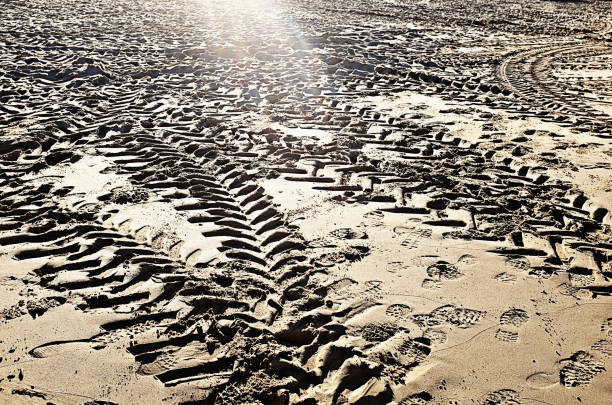vehicle_track: (0, 0, 611, 403), (0, 133, 429, 402), (251, 99, 609, 293), (496, 42, 611, 127)
